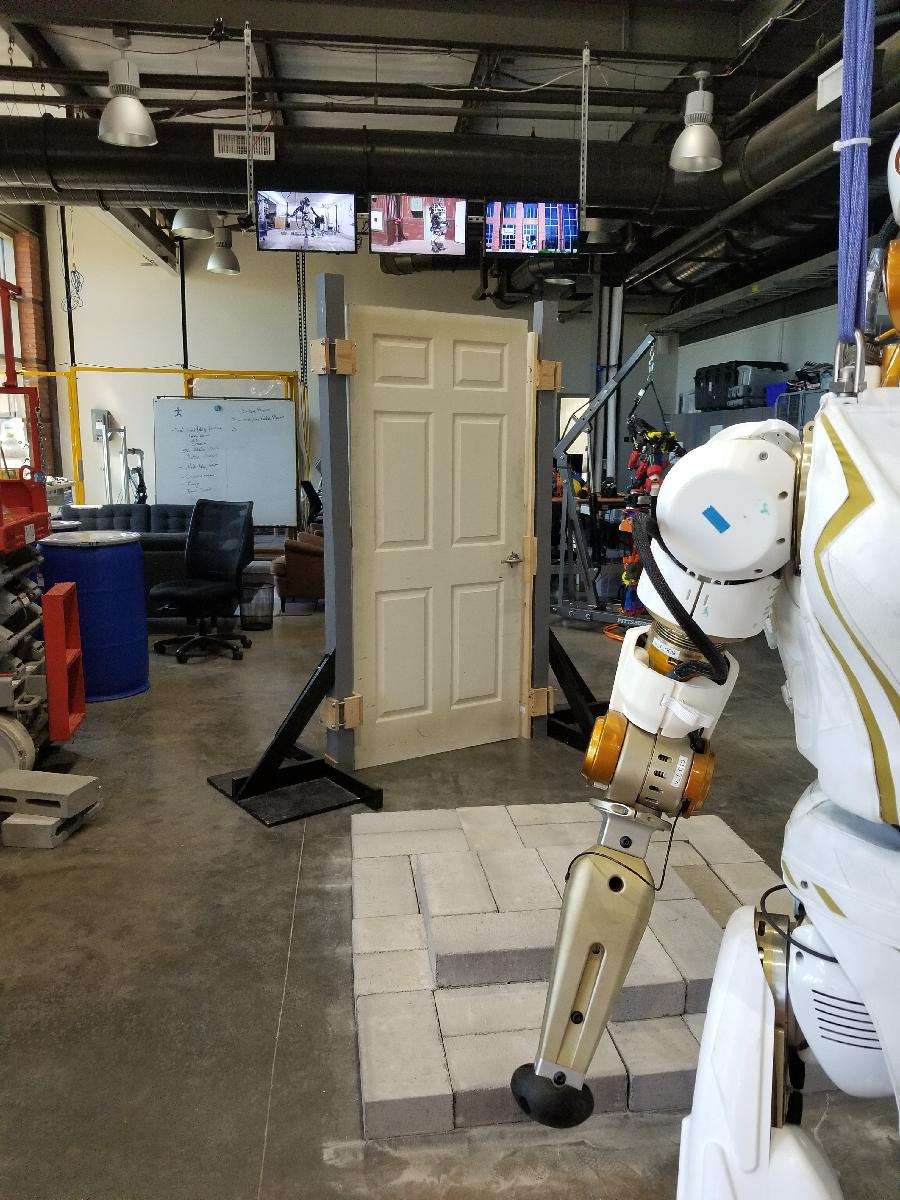door: (341, 302, 535, 776)
doorHandle: (497, 550, 525, 575)
